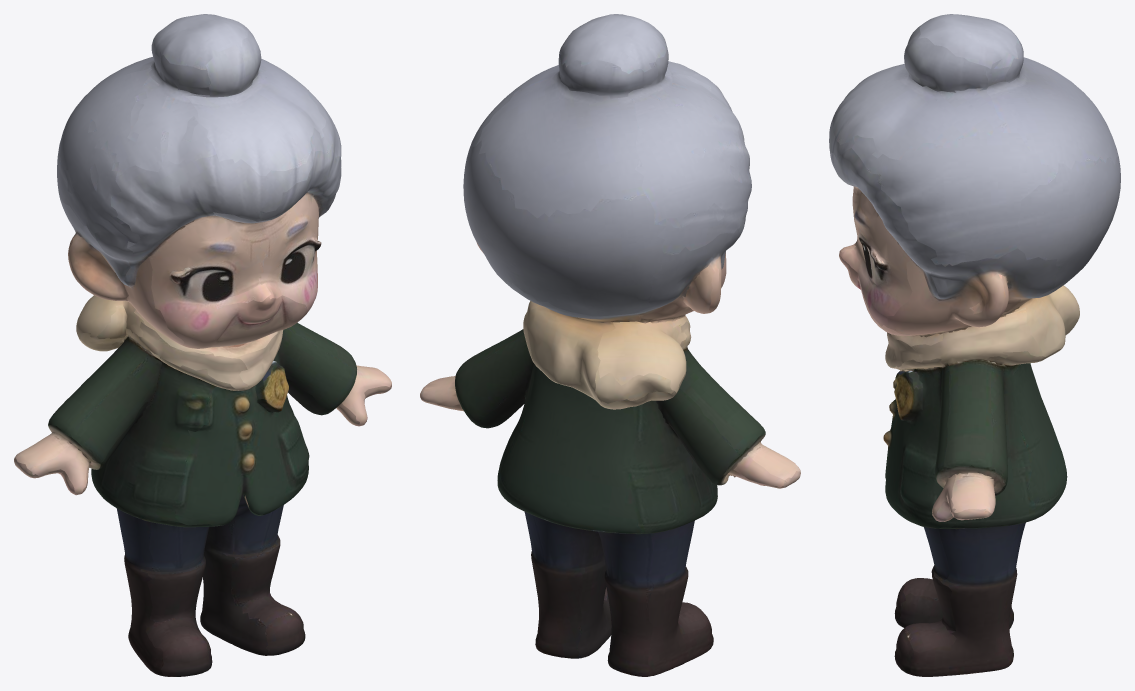
Rendered from marrow.glb.
3 views of the same model, side by side, from view 1: azimuth 30°, elevation 25°; view 2: azimuth 150°, elevation 25°; view 3: azimuth 270°, elevation 25° (orthographic).
Visible parts, largest first — view 1: marrow_s12; view 2: marrow_s12; view 3: marrow_s12.
Part boxes in pixels (<box>): marrow_s12: <box>14,14,391,676</box>; marrow_s12: <box>420,14,800,676</box>; marrow_s12: <box>829,14,1120,676</box>.
Bounding box in the file's own units: 0.6174 × 1 × 0.425.
Materials: 1 (1 with a texture image).
